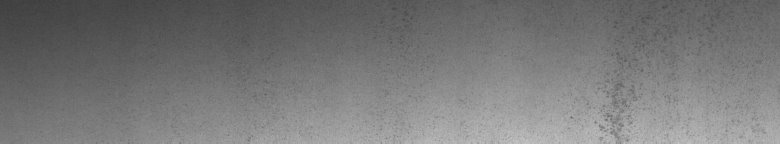ib: (570, 16, 649, 136)
